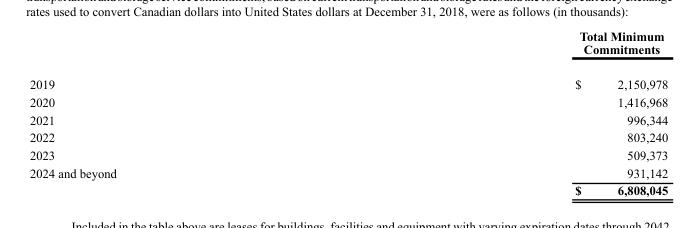table: (28, 28, 667, 196)
table column: (345, 28, 667, 196), (28, 28, 345, 196)
table column header: (28, 28, 667, 66)
table row: (28, 28, 667, 66), (28, 66, 667, 92), (28, 92, 667, 110), (28, 110, 667, 128), (28, 145, 667, 163), (28, 163, 667, 181), (28, 128, 667, 145), (28, 181, 667, 196)
